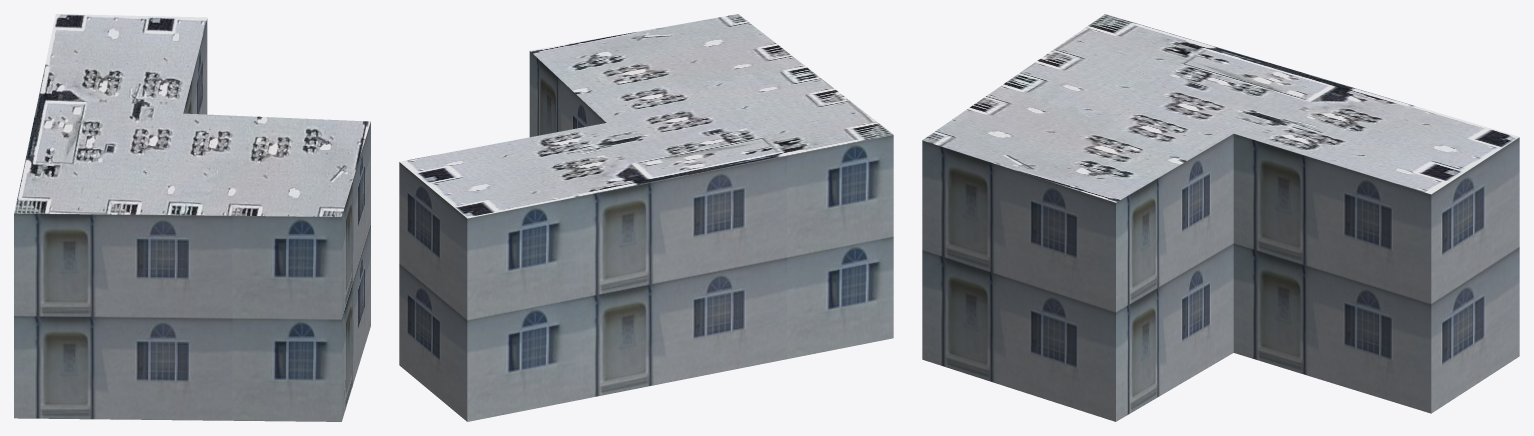
File: ResTex__132.fbx
3 views of the same model, side by side, from view 1: azimuth 30°, elevation 25°; view 2: azimuth 150°, elevation 25°; view 3: azimuth 270°, elevation 25° (orthographic). The views are drawn at different scales.
Parts seen in each view (by area): view 1: CityEngineMaterial_17_m, CityEngineMaterial_8_m; view 2: CityEngineMaterial_17_m, CityEngineMaterial_8_m; view 3: CityEngineMaterial_17_m, CityEngineMaterial_8_m.
Boxes of the visible parts, x1,y1,x2,y2 form: CityEngineMaterial_17_m: (14, 19, 370, 421); CityEngineMaterial_8_m: (14, 14, 370, 216); CityEngineMaterial_17_m: (399, 51, 893, 421); CityEngineMaterial_8_m: (399, 14, 893, 218); CityEngineMaterial_17_m: (922, 133, 1519, 421); CityEngineMaterial_8_m: (922, 14, 1519, 202).
Size of the model in its own units: 11.08 by 6 by 14.82.
Materials: 2 (2 with a texture image).
